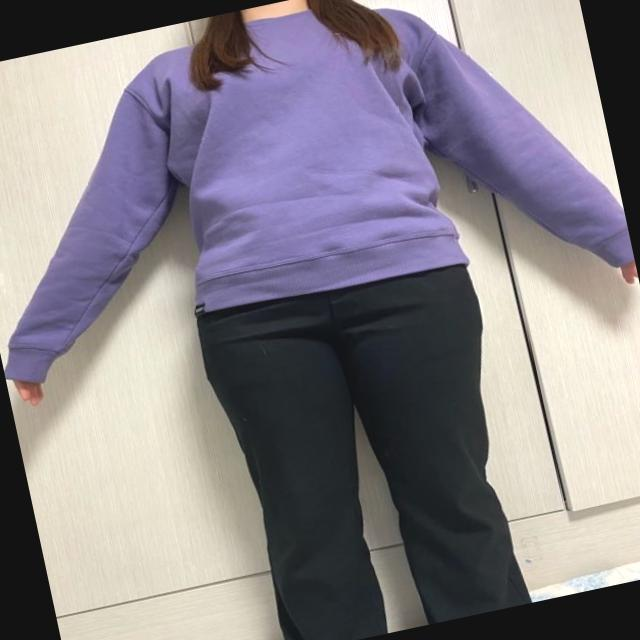mtm: (0, 0, 611, 356)
slacks: (187, 251, 540, 640)
